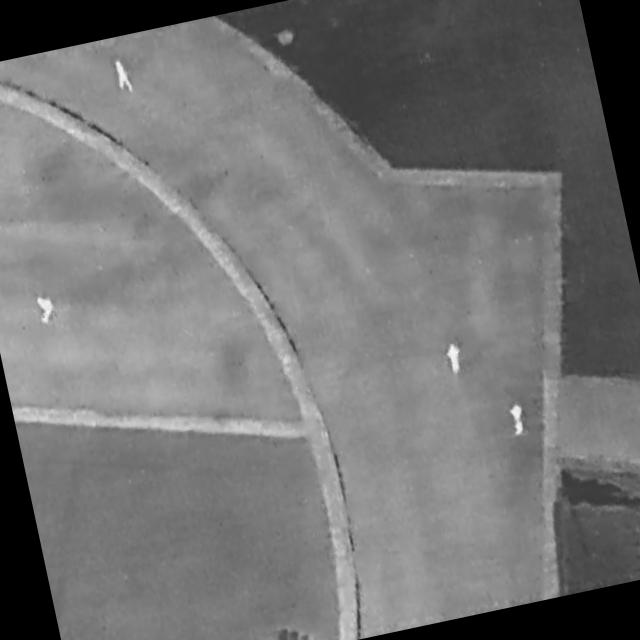person: (509, 400, 529, 437), (35, 293, 58, 325), (445, 343, 466, 378), (114, 57, 134, 92)
